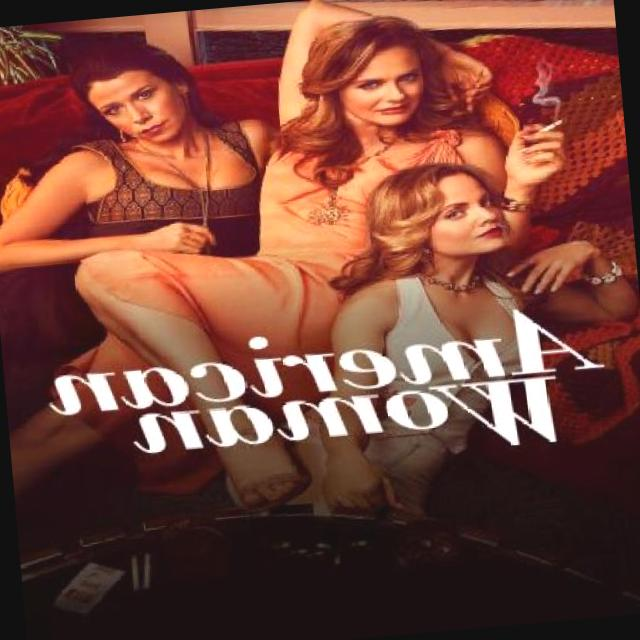cigarette: (533, 114, 567, 134)
